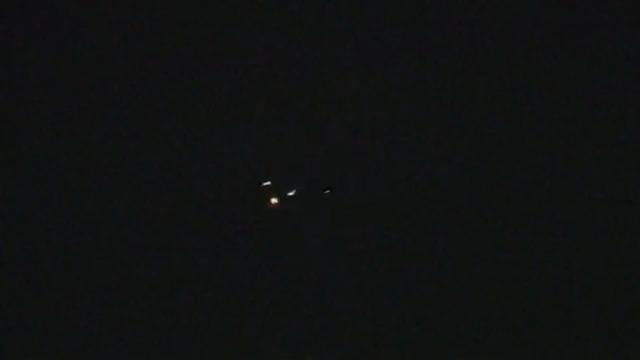Plane: (248, 160, 348, 224)
